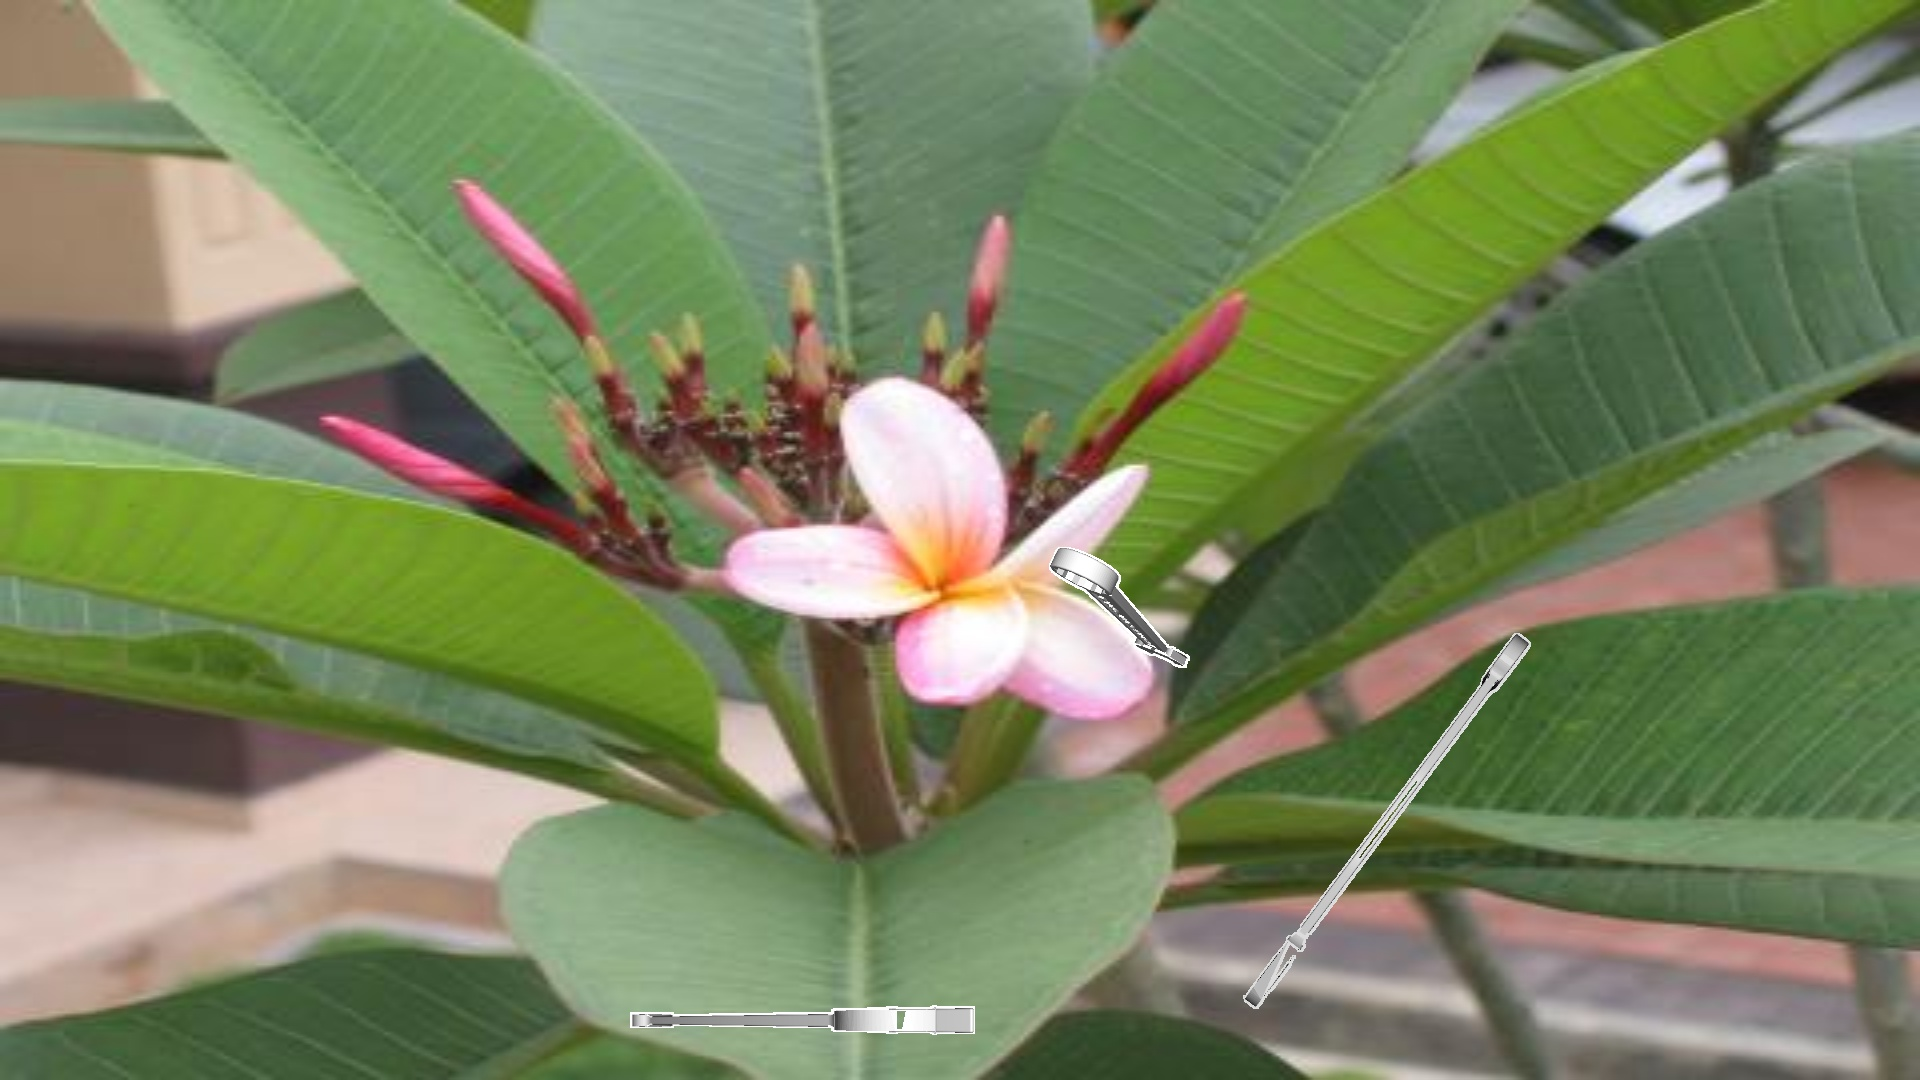Mixed Key: (1244, 633, 1530, 1007), (1048, 547, 1189, 667), (630, 1005, 975, 1034)
